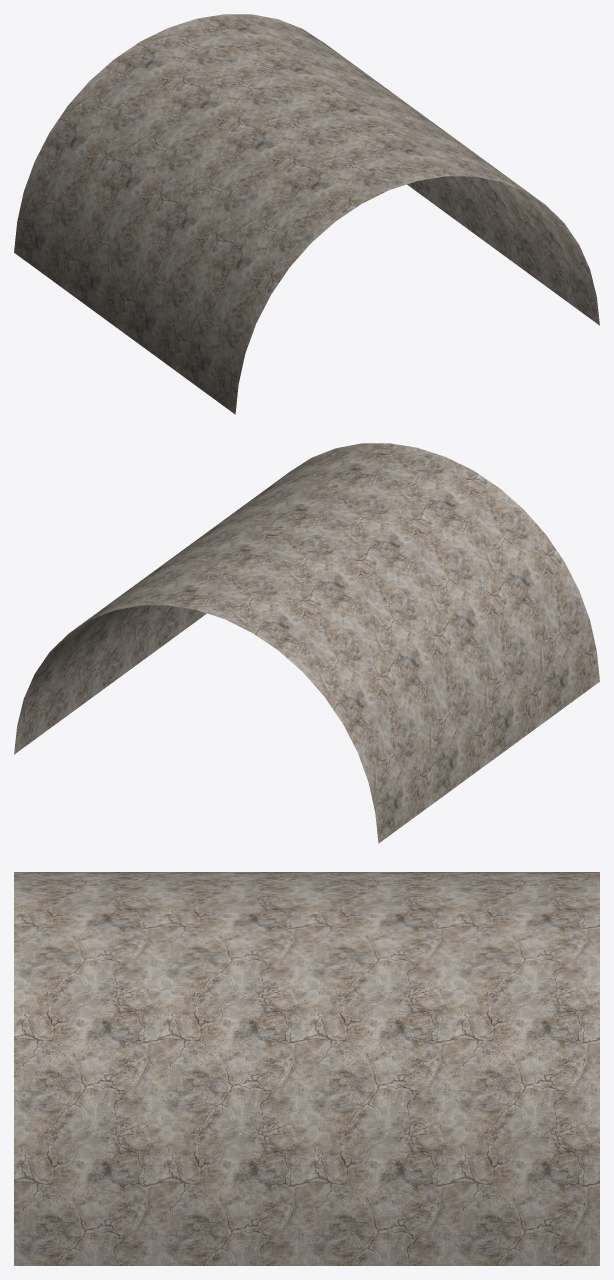
The picture shows the model from 3 angles, top to bottom: view 1: azimuth 30°, elevation 25°; view 2: azimuth 150°, elevation 25°; view 3: azimuth 270°, elevation 25°; orthographic projection. The views are drawn at different scales.
Parts seen in each view (by area): view 1: SM_Ceiling01a_LOD0; view 2: SM_Ceiling01a_LOD0; view 3: SM_Ceiling01a_LOD0.
Boxes of the visible parts, x1=… form: SM_Ceiling01a_LOD0: x1=14, y1=14, x2=599, y2=414; SM_Ceiling01a_LOD0: x1=14, y1=443, x2=599, y2=843; SM_Ceiling01a_LOD0: x1=14, y1=872, x2=599, y2=1265.
Size of the model in its own units: 7.6 by 3.77 by 8.
1 material, 1 textured.
